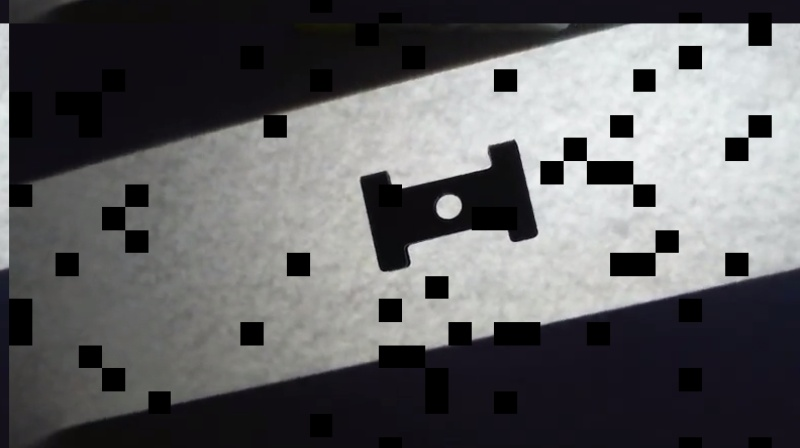O002: (354, 133, 540, 274)
